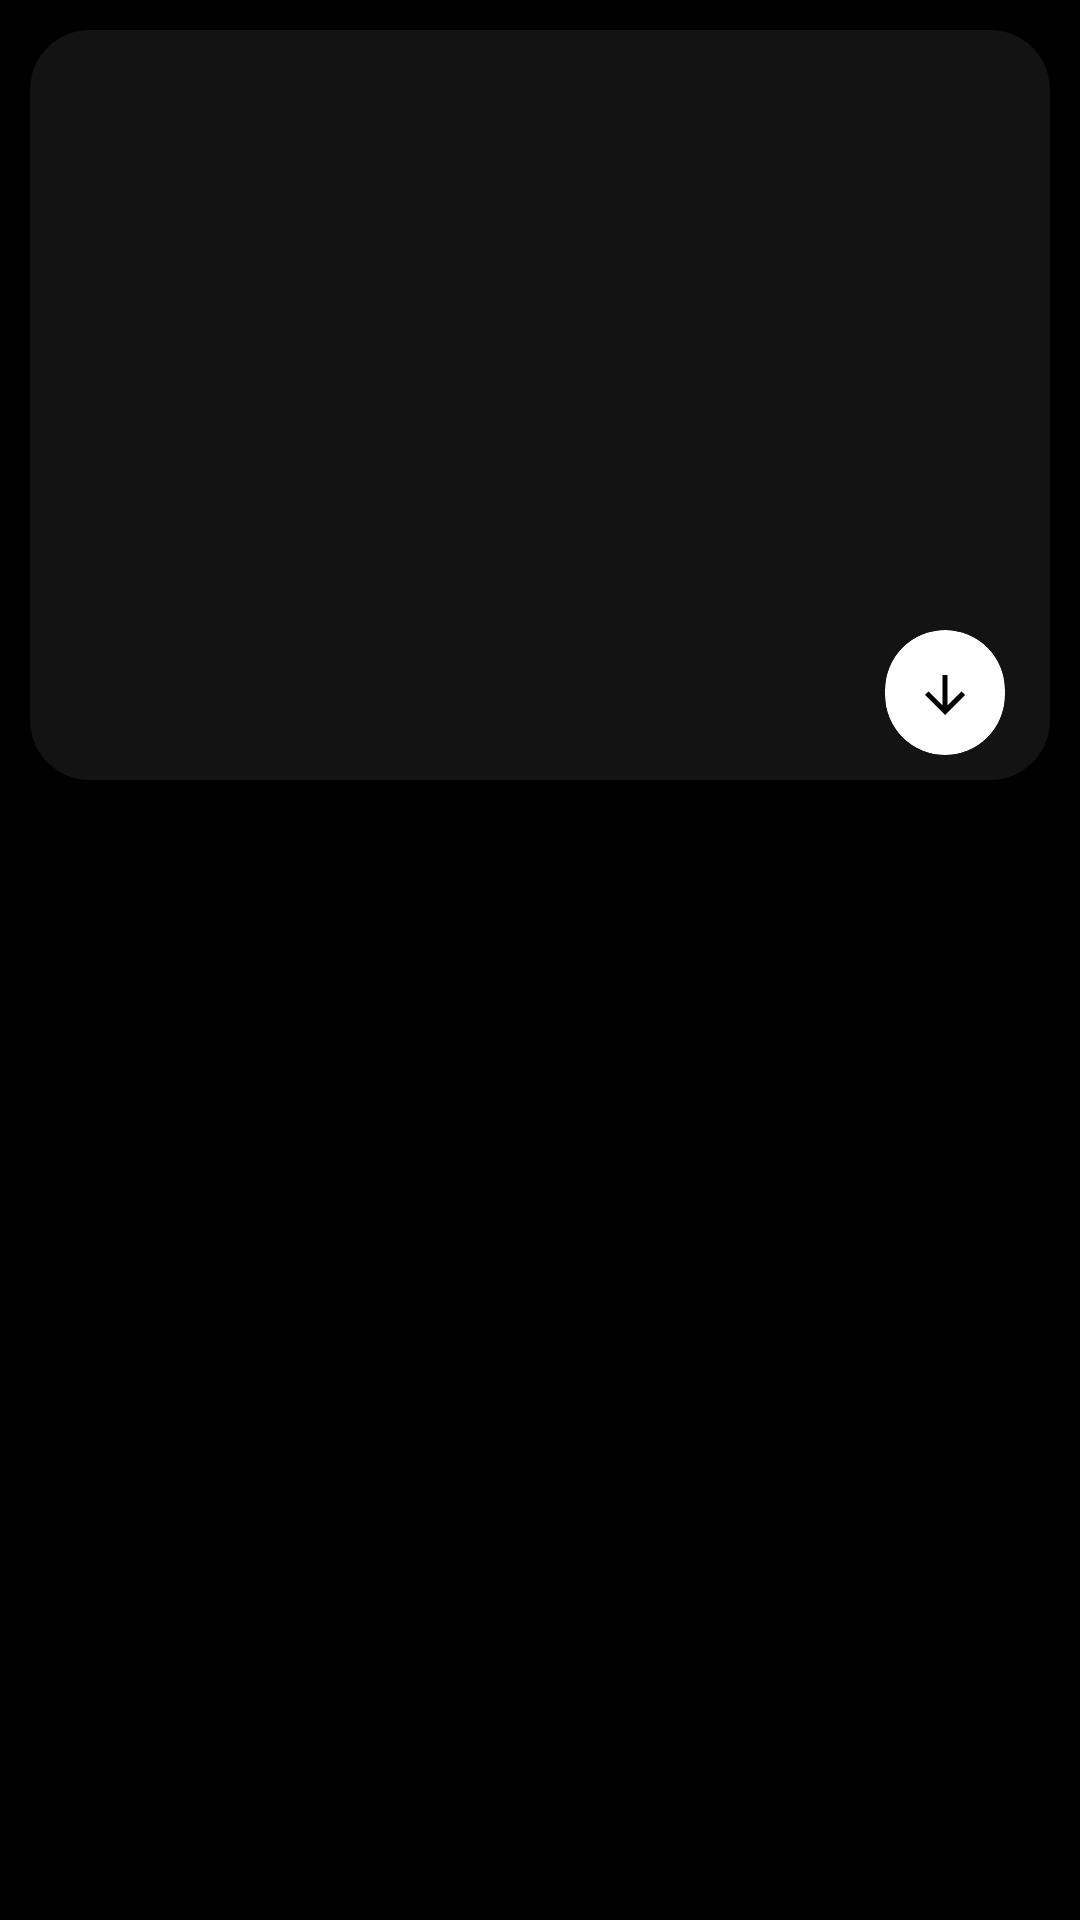

Icons on this 1080*1920 Android screen, each with its box as [left=x1, top=y1, right=x2, bottom=y2]:
downloads: [left=925, top=675, right=965, bottom=715]
